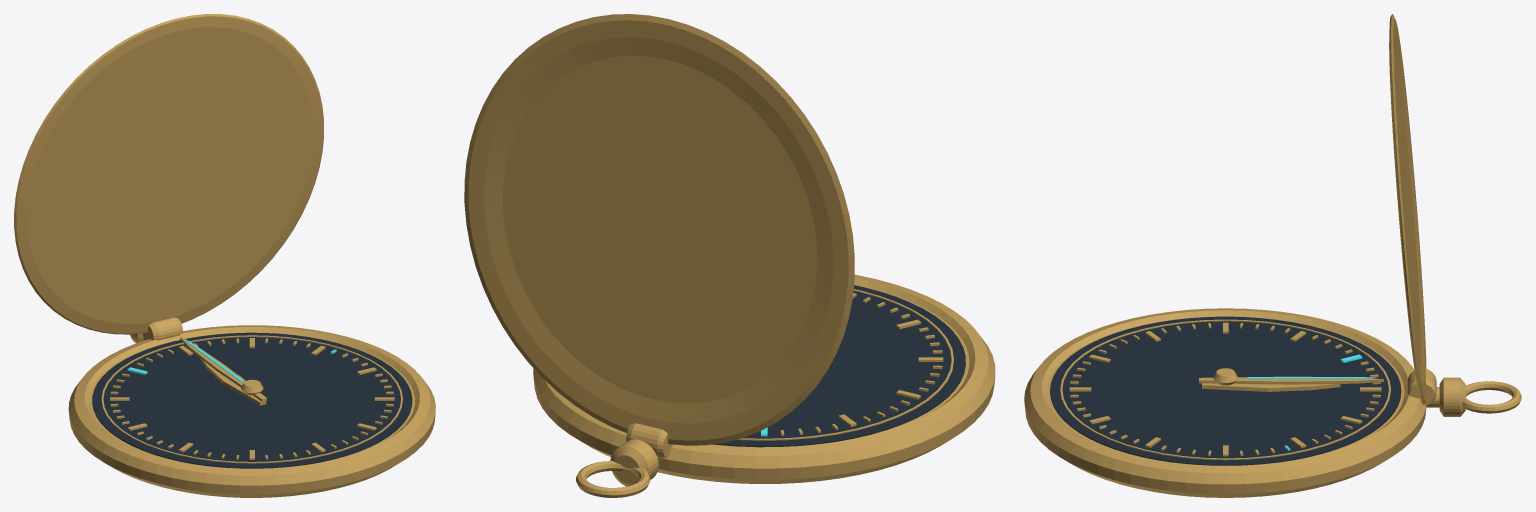
File: StoppedClock.glb
The picture shows the model from 3 angles, left to right: view 1: azimuth 30°, elevation 25°; view 2: azimuth 150°, elevation 25°; view 3: azimuth 270°, elevation 25°; orthographic projection. The views are drawn at different scales.
Visible parts, largest first — view 1: ClockBody, MinuteHand; view 2: ClockBody; view 3: ClockBody, MinuteHand, HourHand.
Part boxes in pixels (x1,y1,x2,y2): ClockBody: [14, 14, 435, 497]; MinuteHand: [180, 337, 266, 401]; ClockBody: [464, 14, 995, 497]; ClockBody: [1024, 14, 1521, 497]; MinuteHand: [1199, 376, 1383, 384]; HourHand: [1202, 383, 1340, 391].
Size of the model in its own units: 0.39 by 0.4118 by 0.4815.
